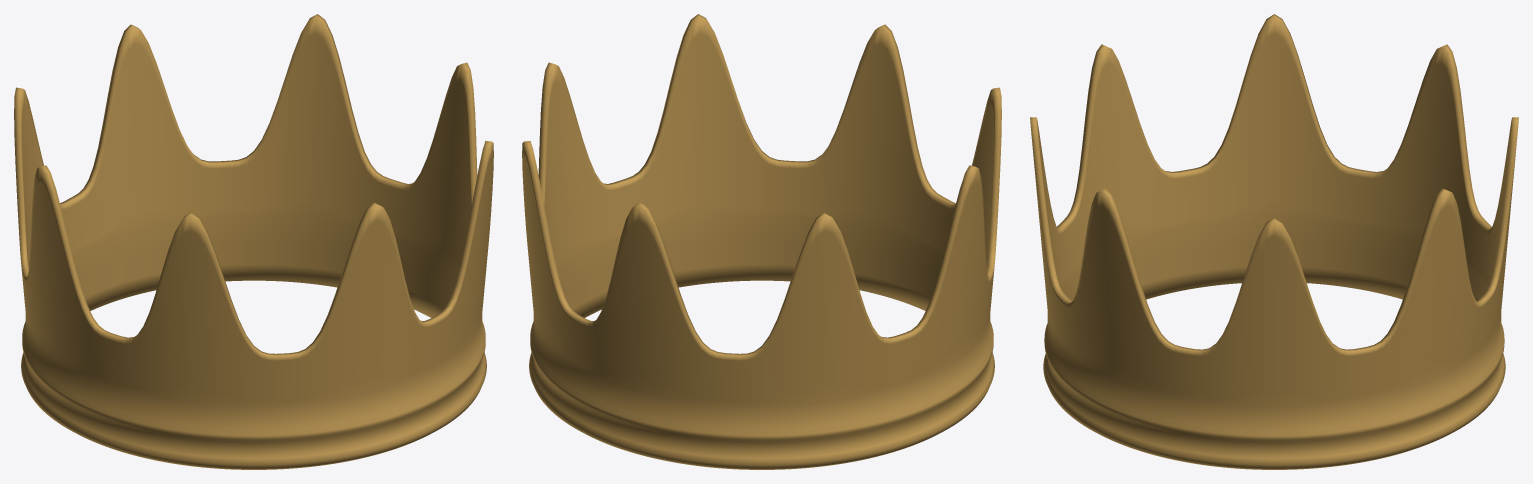
The picture shows the model from 3 angles, left to right: view 1: azimuth 30°, elevation 25°; view 2: azimuth 150°, elevation 25°; view 3: azimuth 270°, elevation 25°; orthographic projection.
Visible parts, largest first — view 1: Complete open scalloped crown band; view 2: Complete open scalloped crown band; view 3: Complete open scalloped crown band.
Boxes of the visible parts, x1=… form: Complete open scalloped crown band: x1=14, y1=14, x2=493, y2=469; Complete open scalloped crown band: x1=522, y1=14, x2=1001, y2=469; Complete open scalloped crown band: x1=1030, y1=14, x2=1518, y2=469.
Size of the model in its own units: 0.22 by 0.128 by 0.22.
